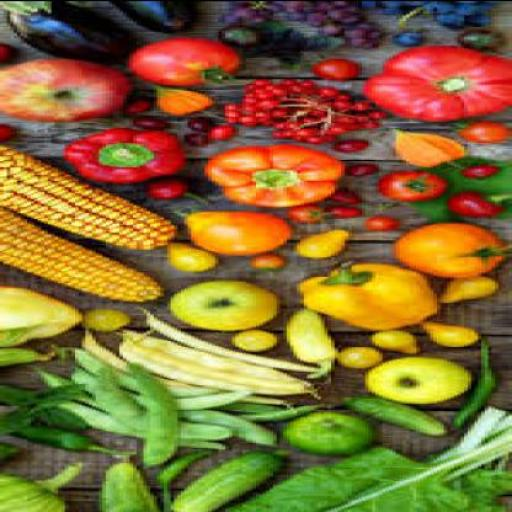biodegradable: (216, 410, 510, 511), (0, 145, 177, 251), (79, 332, 290, 410), (0, 208, 164, 302), (358, 45, 508, 122), (136, 309, 314, 372), (218, 80, 386, 144), (116, 336, 311, 390), (290, 261, 437, 332), (92, 368, 232, 442), (114, 343, 300, 394), (116, 330, 300, 381), (201, 144, 342, 208), (48, 402, 222, 453), (1, 58, 126, 123), (4, 1, 129, 65), (54, 130, 185, 184), (166, 450, 281, 511), (389, 224, 508, 278), (127, 38, 242, 88), (123, 366, 177, 472), (164, 282, 277, 332), (362, 358, 468, 406), (0, 285, 79, 348), (174, 214, 290, 256), (334, 396, 448, 438), (0, 384, 92, 435), (448, 345, 502, 428), (283, 2, 379, 48), (3, 422, 126, 457), (272, 413, 368, 457), (96, 455, 169, 511), (0, 384, 86, 430), (279, 309, 331, 381), (0, 466, 80, 511), (386, 130, 467, 172), (185, 410, 273, 445), (102, 1, 198, 33), (154, 450, 212, 492), (376, 172, 444, 201), (150, 88, 212, 118), (430, 278, 498, 304), (290, 231, 348, 261), (215, 2, 276, 28), (417, 323, 478, 348), (164, 244, 215, 273), (240, 404, 320, 422), (447, 194, 509, 216), (450, 122, 508, 144), (365, 330, 413, 356), (140, 181, 194, 203), (225, 330, 277, 352), (0, 345, 55, 365), (62, 368, 96, 400), (78, 312, 126, 334), (215, 27, 259, 49), (311, 58, 355, 80), (334, 349, 382, 369), (457, 30, 502, 49), (20, 367, 62, 387), (242, 256, 287, 271), (0, 327, 31, 347), (358, 216, 396, 232), (420, 1, 462, 14), (320, 205, 362, 218), (287, 206, 321, 222), (328, 191, 365, 204), (464, 166, 498, 180), (342, 166, 378, 179), (461, 12, 492, 27), (327, 140, 362, 153), (454, 4, 488, 17), (1, 442, 20, 464), (184, 118, 212, 132), (386, 33, 416, 46), (130, 118, 160, 131), (205, 128, 232, 142), (177, 134, 202, 148), (433, 15, 458, 28), (0, 124, 14, 146), (379, 8, 406, 18), (123, 100, 143, 113), (376, 2, 413, 9), (358, 2, 372, 12)
